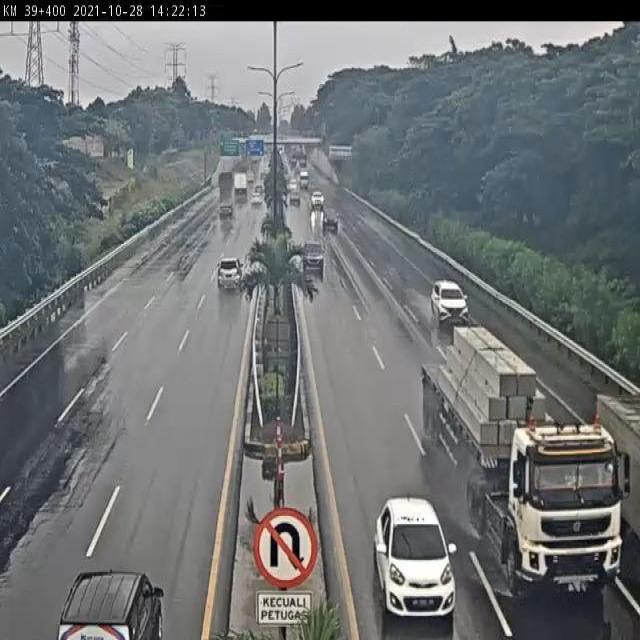car: (371, 496, 458, 623), (431, 279, 475, 329), (217, 256, 246, 293), (301, 237, 325, 271)
small truck: (573, 361, 640, 539)
truck-xl-: (417, 333, 625, 599)
